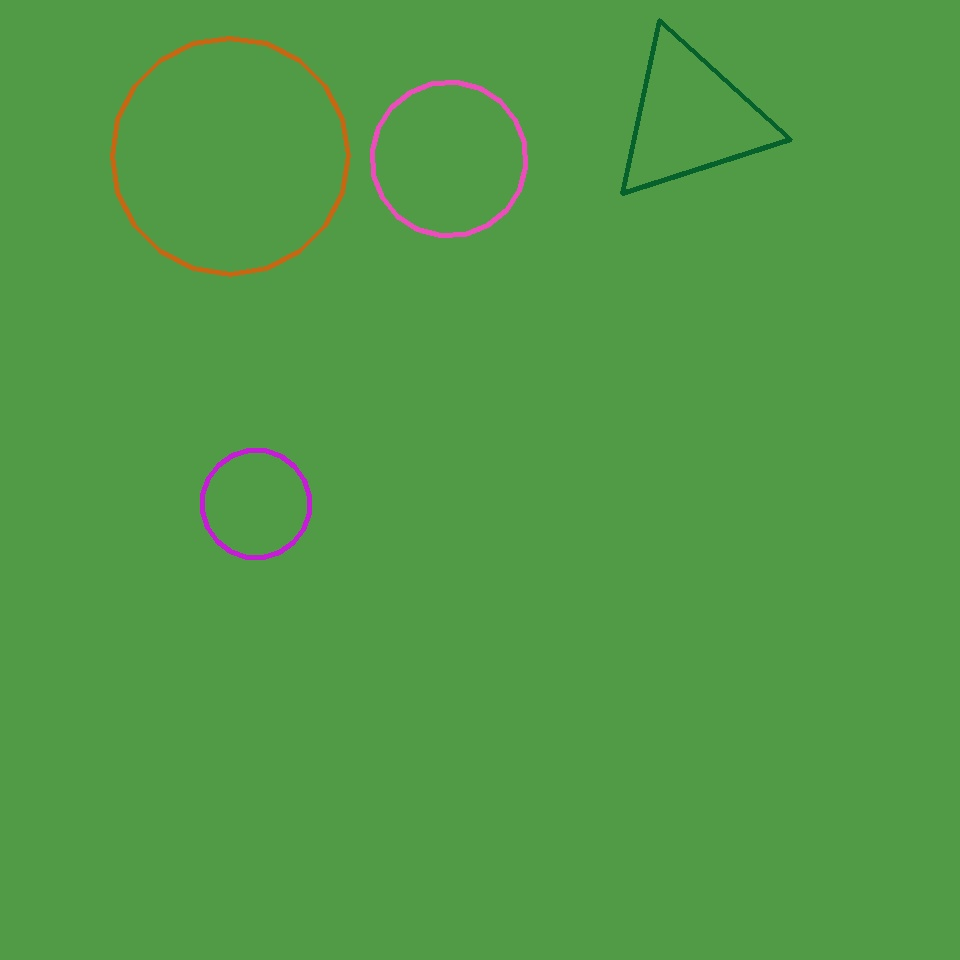circle: (607, 31, 775, 204)
triangle: (112, 38, 348, 274), (373, 82, 526, 236), (202, 450, 310, 558)
